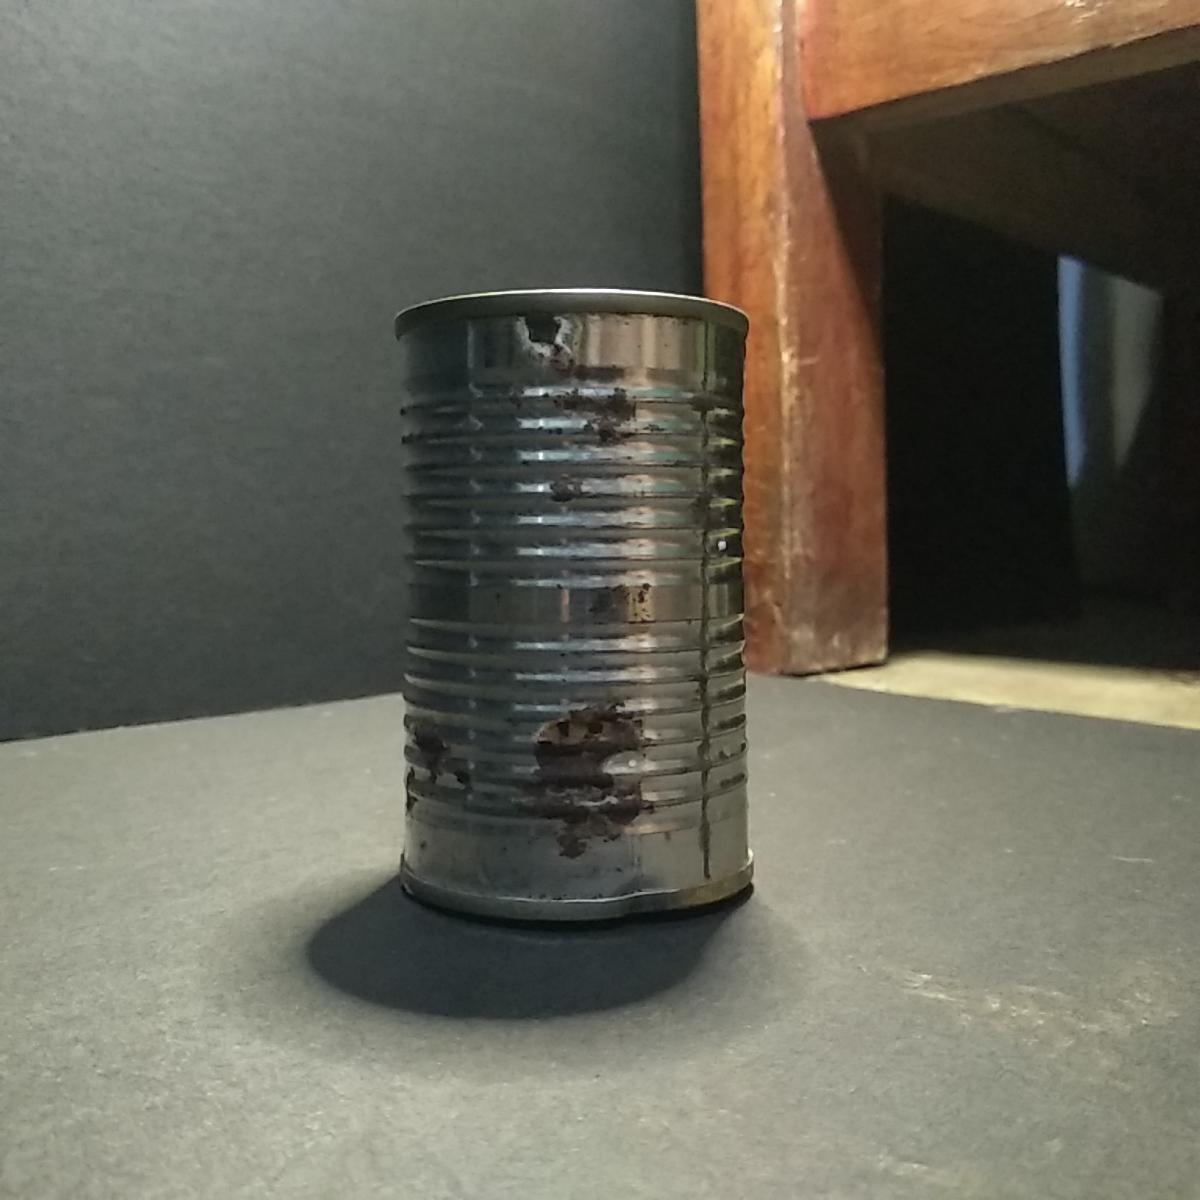Rusted: (388, 268, 768, 948)
